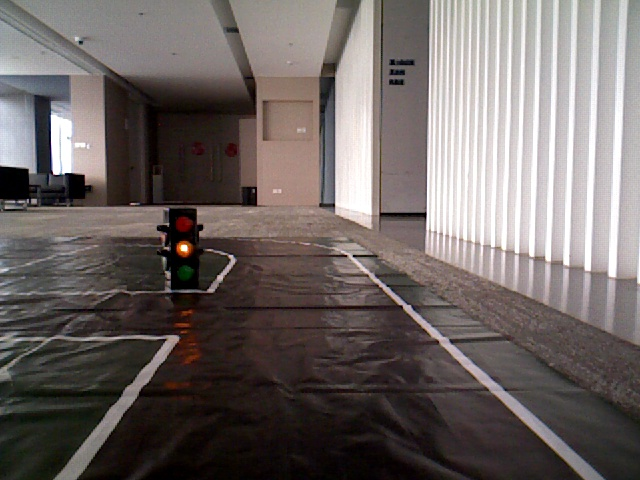yellow: (169, 210, 195, 281)
